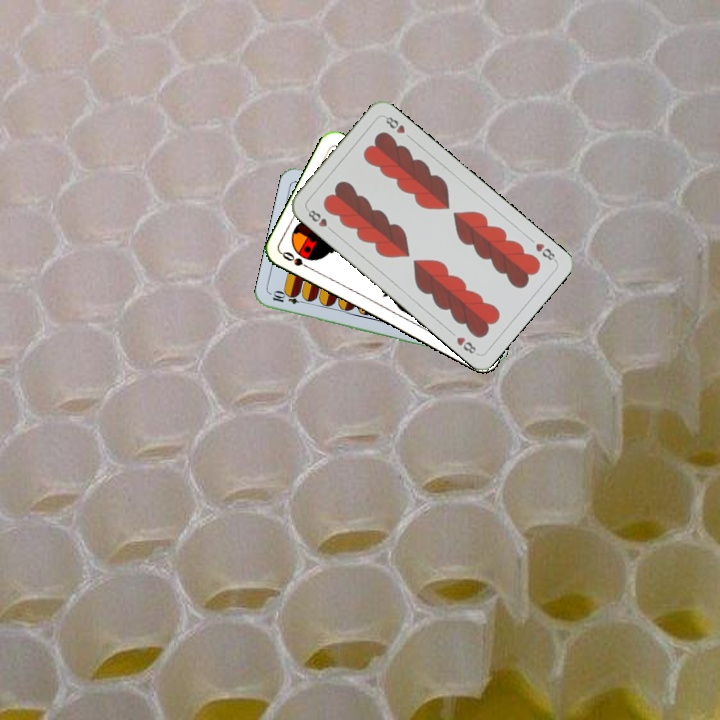E10: (268, 289, 309, 307)
H8: (303, 205, 337, 235), (531, 239, 559, 264)
SO: (278, 247, 316, 273)
